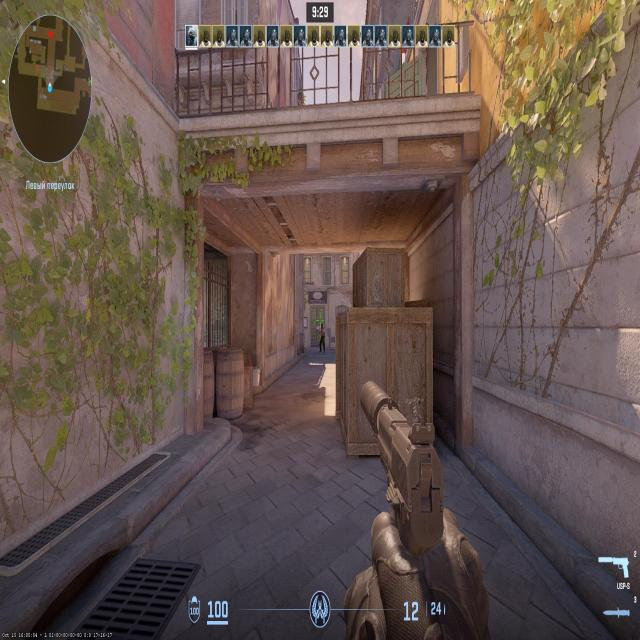T: (320, 325, 325, 351)
T_heat: (322, 326, 323, 330)
